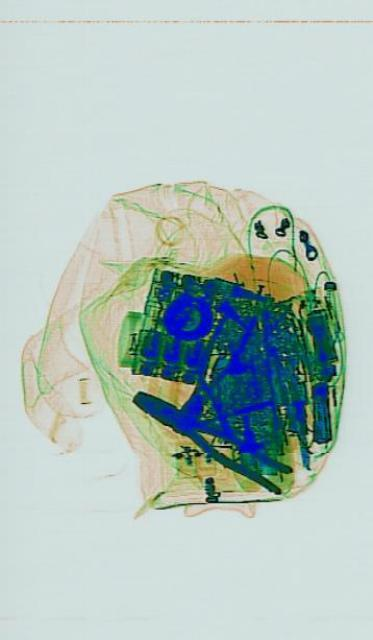Pliers: (129, 376, 290, 499), (170, 289, 257, 435)
